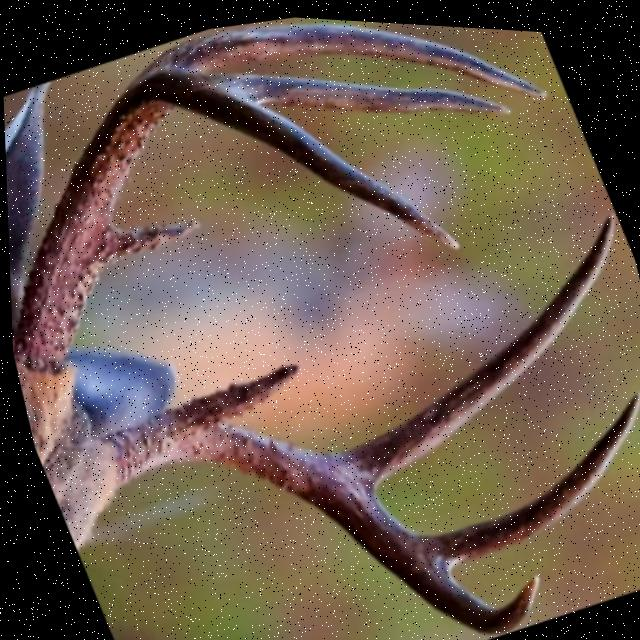L-F: (12, 66, 460, 361)
L-G1: (101, 216, 201, 267)
L-G2: (136, 17, 548, 90)
L-G3: (204, 69, 513, 109)
R-F: (98, 401, 537, 630)
R-G1: (185, 359, 297, 420)
R-G2: (338, 204, 613, 481)
R-G3: (419, 381, 640, 562)
